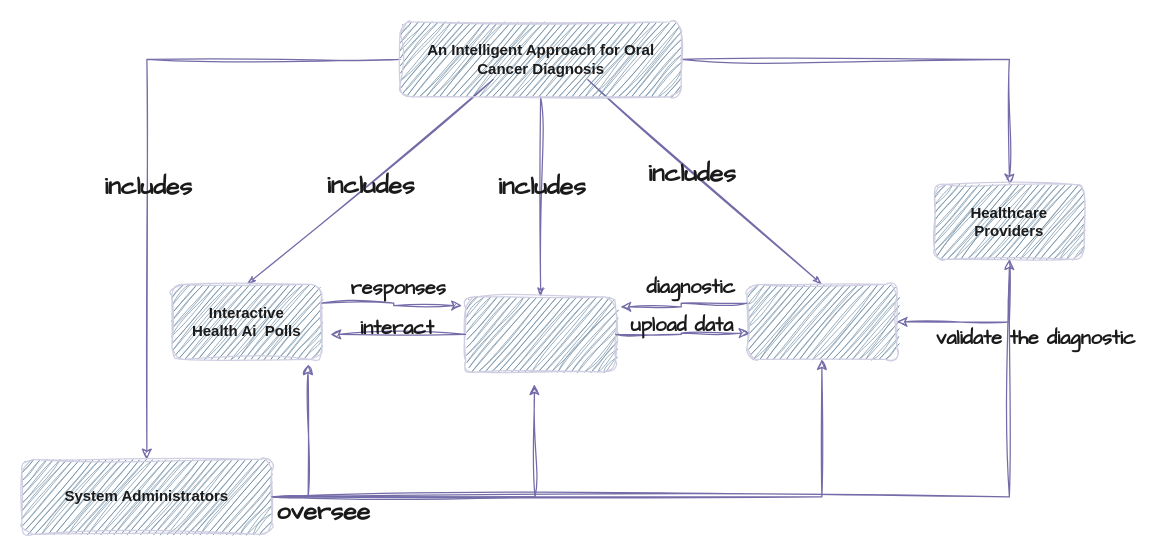
The diagram is 1156 pixels wide and 556 high, and some of its shapes have lost their labels. Here are the shapes that lost their labels. From the top down, the centre of each, then its label:
the point at 540,334: Users
the point at 821,321: Oral Cancer Detection Model
